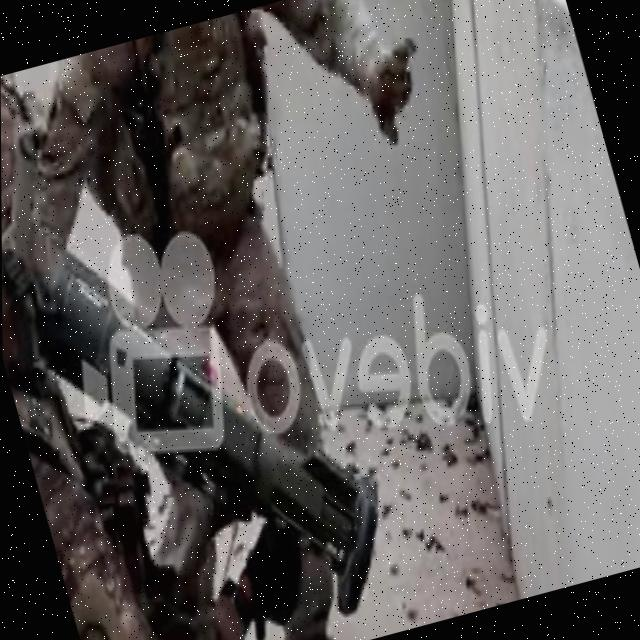rocket: (1, 163, 456, 640)
